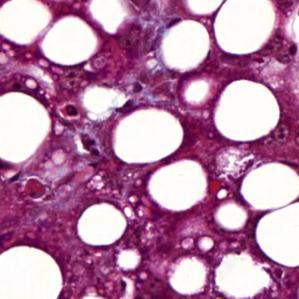steatosis: (214, 79, 280, 143), (0, 243, 64, 297), (77, 203, 127, 246)
